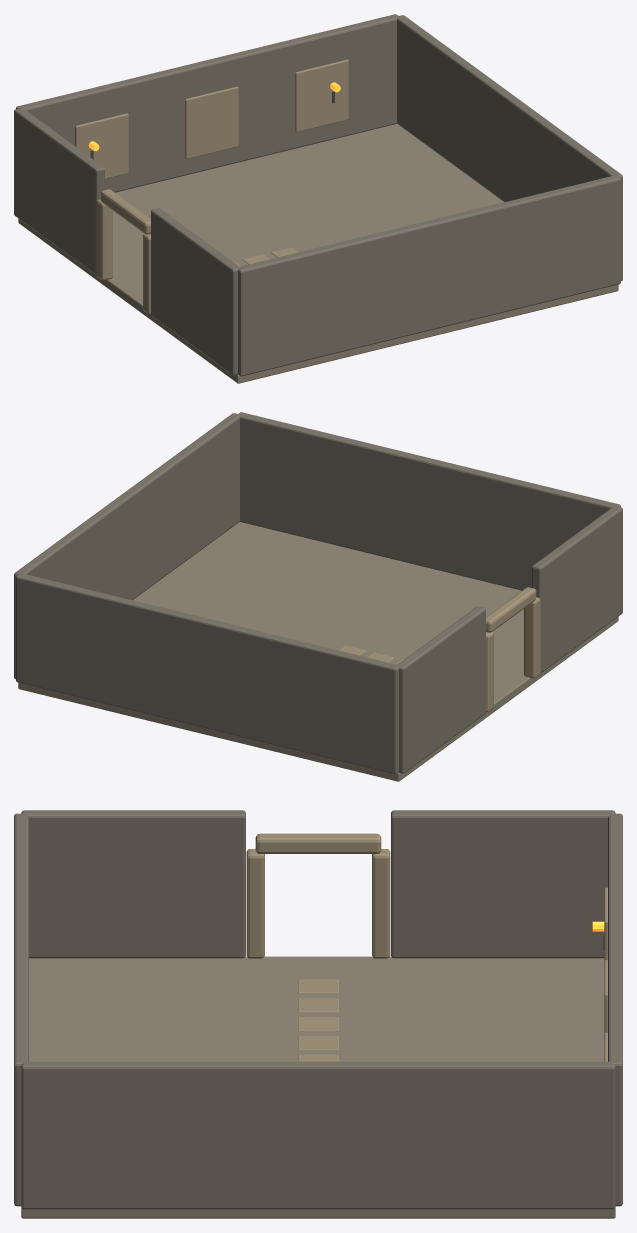
Rendered from training_room_3976.glb.
3 renders of one model, top to bottom at view 1: azimuth 30°, elevation 25°; view 2: azimuth 150°, elevation 25°; view 3: azimuth 270°, elevation 25°, orthographic. The views are drawn at different scales.
Visible parts, largest first — view 1: South solid wall, Flagstone floor, North solid wall, East solid wall, West wall far, West wall near, North wall relief.001, North wall relief.002, North wall relief, West arch north post, West arch lintel, West arch south post; view 2: North solid wall, South solid wall, Flagstone floor, East solid wall, West wall near, West wall far, West arch south post, West arch lintel, West arch north post; view 3: East solid wall, Flagstone floor, West wall far, West wall near, South solid wall, North solid wall, West arch lintel, West arch north post, West arch south post, West guide stone 1, West guide stone 2, West guide stone 3 (+1 smaller).
Part boxes in pixels (<box>): South solid wall: <box>238,175,620,376</box>; Flagstone floor: <box>18,124,618,383</box>; North solid wall: <box>16,14,398,192</box>; East solid wall: <box>397,15,622,280</box>; West wall far: <box>151,208,239,375</box>; West wall near: <box>14,108,104,275</box>; North wall relief.001: <box>185,86,238,159</box>; North wall relief.002: <box>295,59,348,132</box>; North wall relief: <box>75,113,128,178</box>; West arch north post: <box>96,199,112,280</box>; West arch lintel: <box>100,189,150,234</box>; West arch south post: <box>143,234,150,314</box>; North solid wall: <box>16,573,398,774</box>; South solid wall: <box>238,412,620,590</box>; Flagstone floor: <box>18,522,618,781</box>; East solid wall: <box>14,413,239,678</box>; West wall near: <box>397,606,485,773</box>; West wall far: <box>532,506,622,673</box>; West arch south post: <box>524,597,540,678</box>; West arch lintel: <box>486,587,536,632</box>; West arch north post: <box>486,632,493,712</box>; East solid wall: <box>21,1061,615,1209</box>; Flagstone floor: <box>21,956,615,1218</box>; West wall far: <box>21,810,245,958</box>; West wall near: <box>391,810,615,958</box>; South solid wall: <box>14,813,28,1206</box>; North solid wall: <box>608,813,622,1206</box>; West arch lintel: <box>255,833,381,853</box>; West arch north post: <box>372,849,390,958</box>; West arch south post: <box>246,849,264,958</box>; West guide stone 1: <box>298,1036,338,1050</box>; West guide stone 2: <box>298,1017,338,1031</box>; West guide stone 3: <box>298,998,338,1012</box>.
Bounding box in the file's own units: 18.5 × 5.2 × 18.45.
